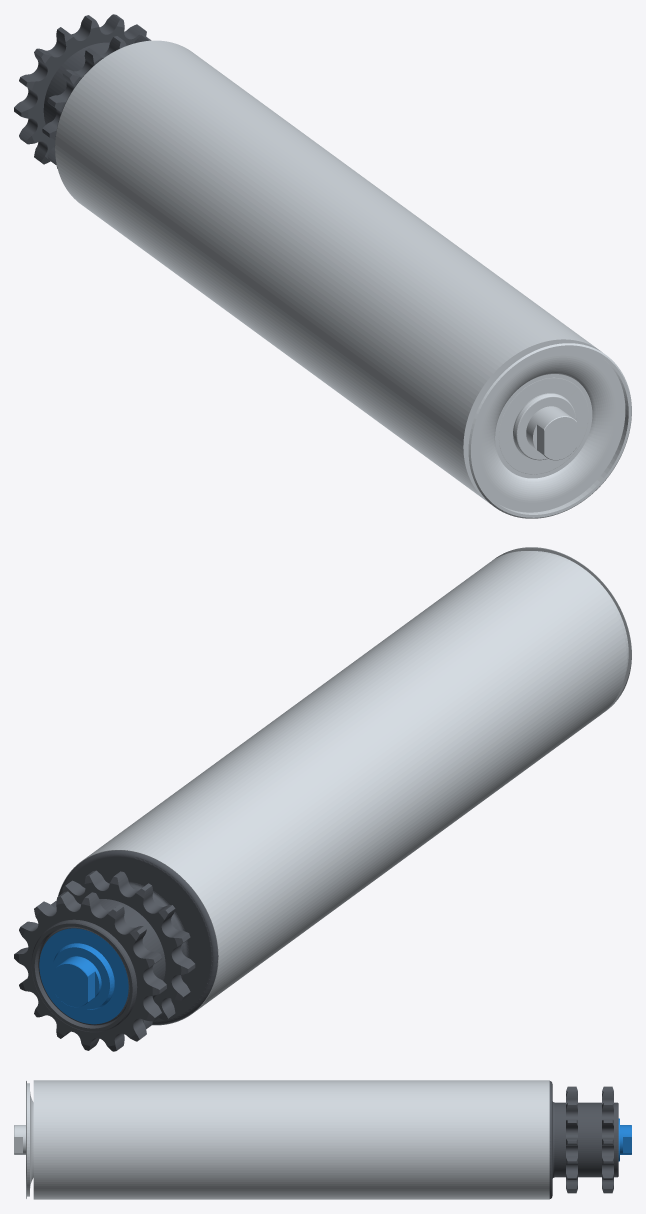
The model's file is MOLTECH_gorgo_AR_JAVITOTT.glb.
3 renders of one model, top to bottom at view 1: azimuth 30°, elevation 25°; view 2: azimuth 150°, elevation 25°; view 3: azimuth 270°, elevation 25°, orthographic. The views are drawn at different scales.
Parts seen in each view (by area): view 1: steel_roller_tube, steel_end_parts, sprockets, steel_end_closure_1; view 2: steel_roller_tube, sprockets, blue_collar, steel_end_parts; view 3: steel_roller_tube, sprockets, steel_end_parts, blue_collar.
Part boxes in pixels (left/top/right/bottom): steel_roller_tube: left=55, top=40, right=602, bottom=503; steel_end_parts: left=468, top=343, right=631, bottom=518; sprockets: left=14, top=14, right=151, bottom=168; steel_end_closure_1: left=465, top=341, right=592, bottom=486; steel_roller_tube: left=58, top=551, right=626, bottom=1025; sprockets: left=14, top=850, right=218, bottom=1051; blue_collar: left=39, top=928, right=128, bottom=1024; steel_end_parts: left=492, top=547, right=631, bottom=711; steel_roller_tube: left=33, top=1080, right=549, bottom=1199; sprockets: left=549, top=1081, right=618, bottom=1198; steel_end_parts: left=14, top=1081, right=33, bottom=1198; blue_collar: left=618, top=1118, right=631, bottom=1161.
Size of the model in its own units: 0.0579 by 0.0579 by 0.3.
